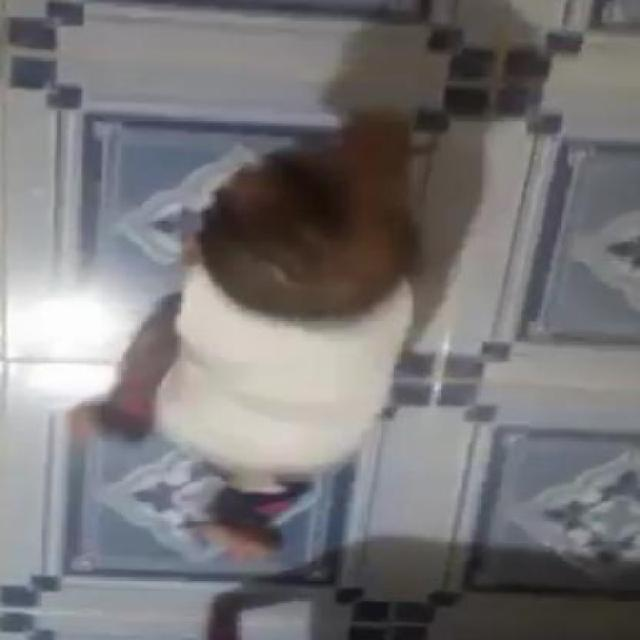baby: (70, 106, 424, 554)
